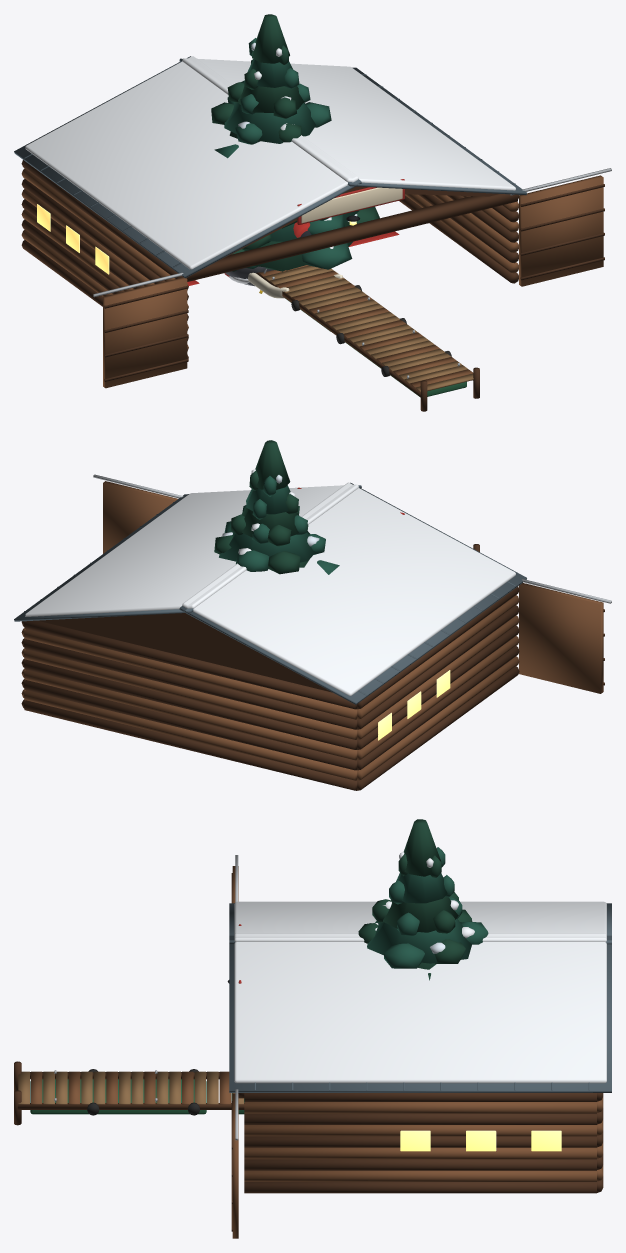
Rendered from snowgoose.glb.
3 renders of one model, top to bottom at view 1: azimuth 30°, elevation 25°; view 2: azimuth 150°, elevation 25°; view 3: azimuth 270°, elevation 25°, orthographic. The views are drawn at different scales.
Visible parts, largest first — view 1: ab_hangar_snow, ab_hangar, nf_spruce_e, ab_dock, sg_body; view 2: ab_hangar, ab_hangar_snow, nf_spruce_e; view 3: ab_hangar_snow, ab_hangar, nf_spruce_e, ab_dock.
Boxes of the visible parts, x1,y1,x2,y2 form: ab_hangar_snow: [25, 56, 515, 269]; ab_hangar: [14, 56, 611, 388]; nf_spruce_e: [211, 14, 379, 271]; ab_dock: [251, 265, 479, 411]; sg_body: [248, 222, 342, 298]; ab_hangar: [14, 474, 611, 790]; ab_hangar_snow: [25, 482, 515, 695]; nf_spruce_e: [214, 440, 339, 574]; ab_hangar_snow: [234, 901, 606, 1083]; ab_hangar: [227, 855, 611, 1238]; nf_spruce_e: [358, 819, 488, 980]; ab_dock: [14, 1061, 244, 1125].
Bounding box in the file's own units: 26.6 × 13.44 × 23.75.
